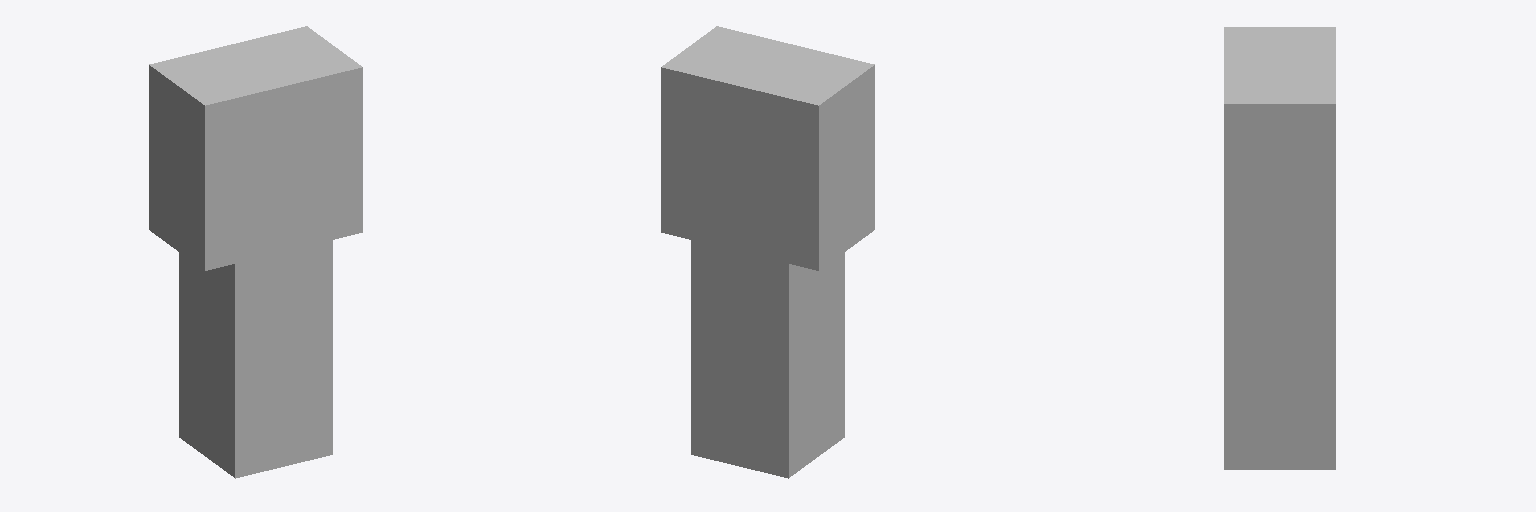
File: receptor-square.obj
3 renders of one model, left to right at view 1: azimuth 30°, elevation 25°; view 2: azimuth 150°, elevation 25°; view 3: azimuth 270°, elevation 25°, orthographic.
Parts seen in each view (by area): view 1: square_Cube.001; view 2: square_Cube.001; view 3: square_Cube.001.
Boxes of the visible parts, x1=… form: square_Cube.001: x1=149, y1=26, x2=362, y2=478; square_Cube.001: x1=661, y1=26, x2=874, y2=478; square_Cube.001: x1=1224, y1=27, x2=1335, y2=469.
Size of the model in its own units: 3.24 by 7.45 by 2.